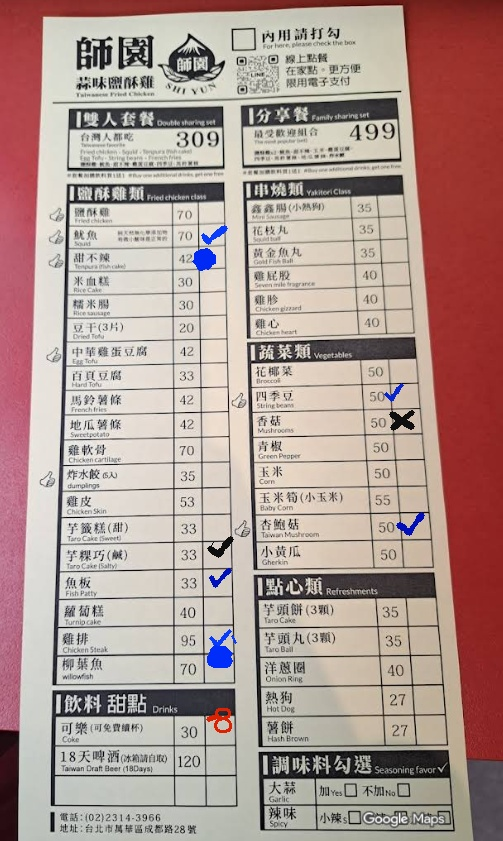marked_circle: (204, 655, 233, 685), (196, 246, 225, 268)
marked_number_8: (205, 716, 236, 744)
marked_tick: (203, 627, 232, 657), (203, 566, 232, 596), (398, 513, 429, 541), (202, 542, 231, 565), (388, 383, 417, 406), (196, 225, 225, 247)
marked_x: (391, 408, 420, 431)
